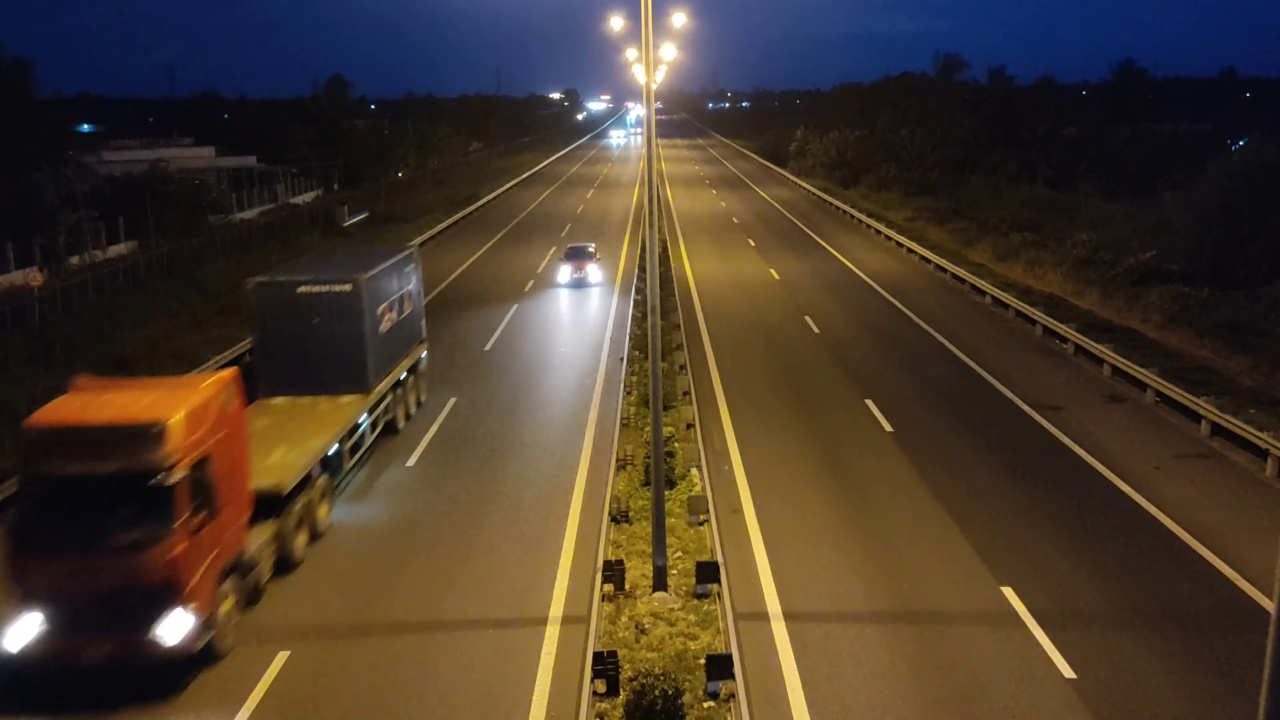car: (553, 231, 609, 290)
truck: (0, 240, 430, 683)
